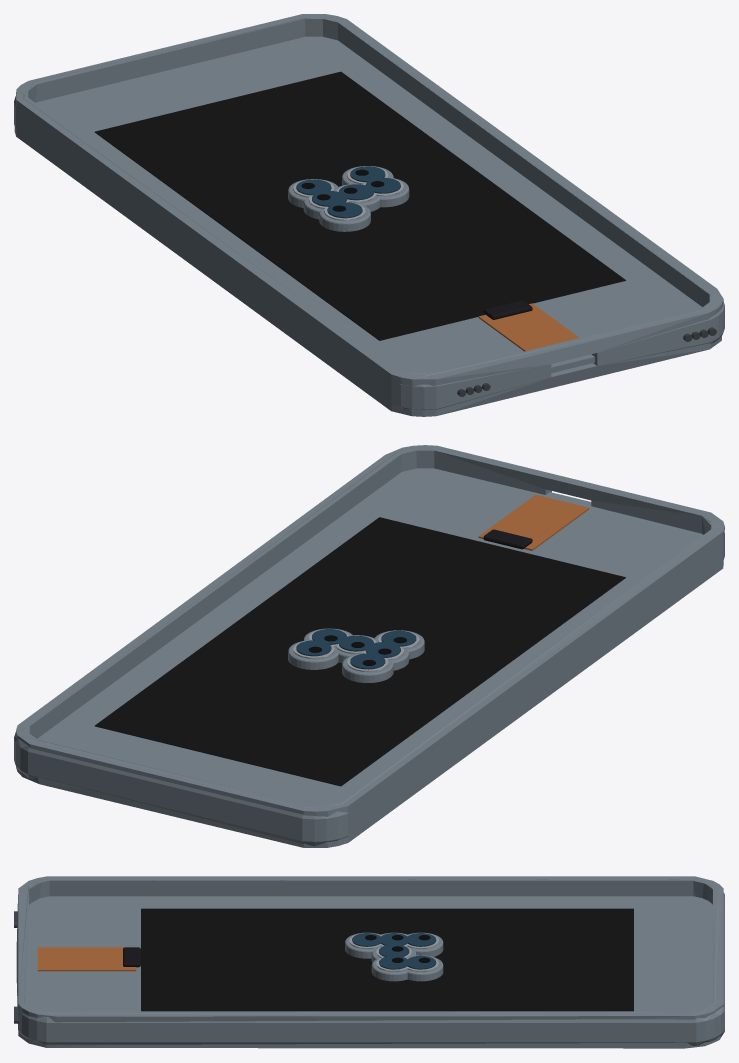
The model's file is celular_variantes.glb.
3 renders of one model, top to bottom at view 1: azimuth 30°, elevation 25°; view 2: azimuth 150°, elevation 25°; view 3: azimuth 270°, elevation 25°, orthographic. The views are drawn at different scales.
Parts seen in each view (by area): view 1: pantalla_celular_dato@sin_muesca, marco_celular_dato@rectos, marco_celular_dato@redondeados, camara_celular_dato@3, camara_celular_dato@2, pantalla_celular_dato@con_muesca, camara_celular_dato@1; view 2: pantalla_celular_dato@sin_muesca, marco_celular_dato@rectos, marco_celular_dato@redondeados, camara_celular_dato@3, camara_celular_dato@2, camara_celular_dato@1; view 3: pantalla_celular_dato@sin_muesca, marco_celular_dato@redondeados, marco_celular_dato@rectos, camara_celular_dato@3, camara_celular_dato@2, camara_celular_dato@1.
Part boxes in pixels (<box>): pantalla_celular_dato@sin_muesca: <box>36,36,702,373</box>; marco_celular_dato@rectos: <box>14,14,723,416</box>; marco_celular_dato@redondeados: <box>14,17,724,410</box>; camara_celular_dato@3: <box>288,166,393,231</box>; camara_celular_dato@2: <box>303,177,409,219</box>; pantalla_celular_dato@con_muesca: <box>97,134,625,373</box>; camara_celular_dato@1: <box>334,184,380,211</box>; pantalla_celular_dato@sin_muesca: <box>37,468,702,805</box>; marco_celular_dato@rectos: <box>16,445,724,847</box>; marco_celular_dato@redondeados: <box>14,448,724,846</box>; camara_celular_dato@3: <box>288,630,424,682</box>; camara_celular_dato@2: <box>303,628,409,670</box>; camara_celular_dato@1: <box>335,635,376,662</box>; pantalla_celular_dato@sin_muesca: <box>29,896,712,1011</box>; marco_celular_dato@redondeados: <box>14,879,724,1045</box>; marco_celular_dato@rectos: <box>14,876,724,1048</box>; camara_celular_dato@3: <box>345,932,443,981</box>; camara_celular_dato@2: <box>371,932,409,981</box>; camara_celular_dato@1: <box>371,944,416,962</box>.
Bounding box in the file's own units: 7.4 × 0.8 × 15.86.
